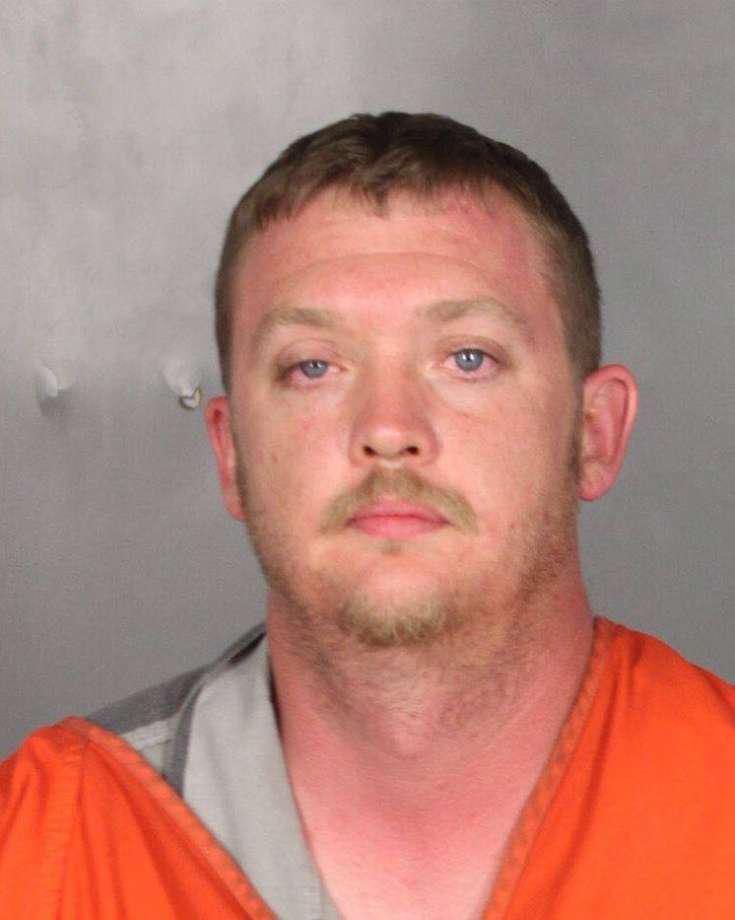Drunk: (239, 194, 572, 620)
